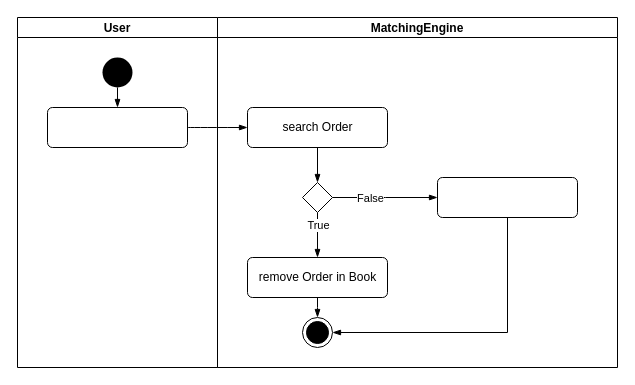
Image size: 635x385. Some labels were removed from this diagram. The centre of each missing label's shape, as x and y in pixels:
"deletes Order" belongs at (117,127).
"return Exception" belongs at (507,197).
